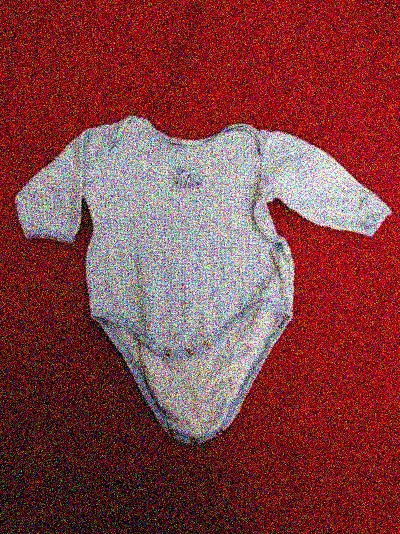Body: (25, 82, 393, 459)
